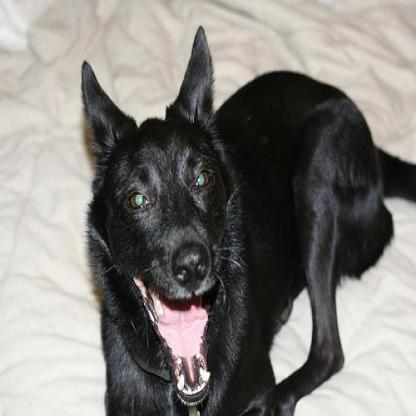kelpie: (79, 23, 414, 414)
